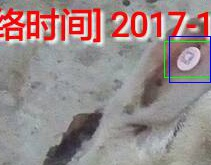text: (164, 41, 210, 77)
